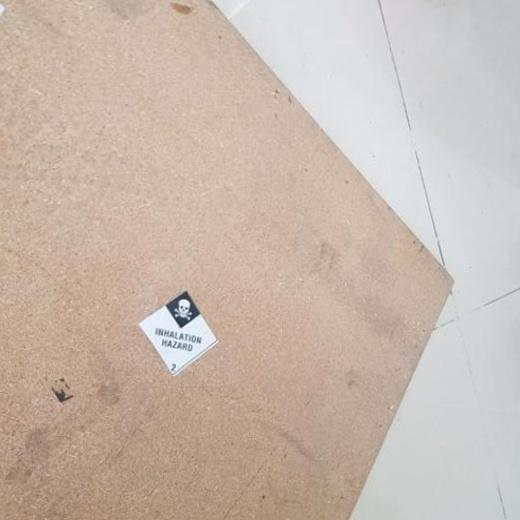poison: (135, 290, 220, 377)
